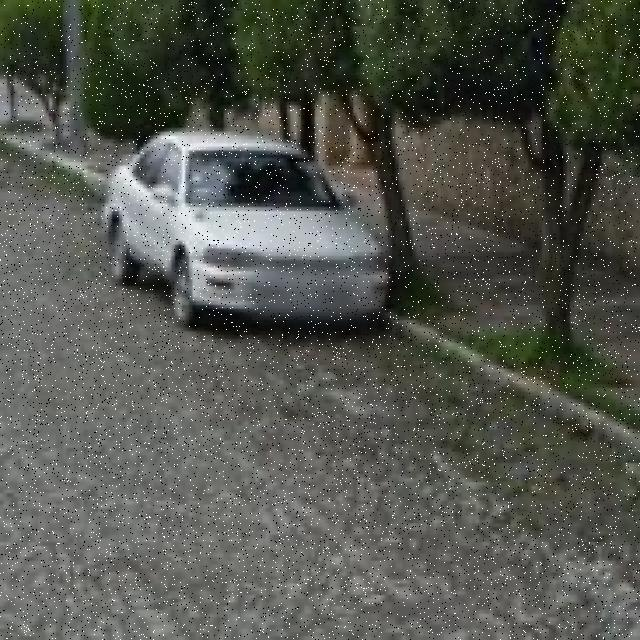cars: (99, 129, 391, 331)
